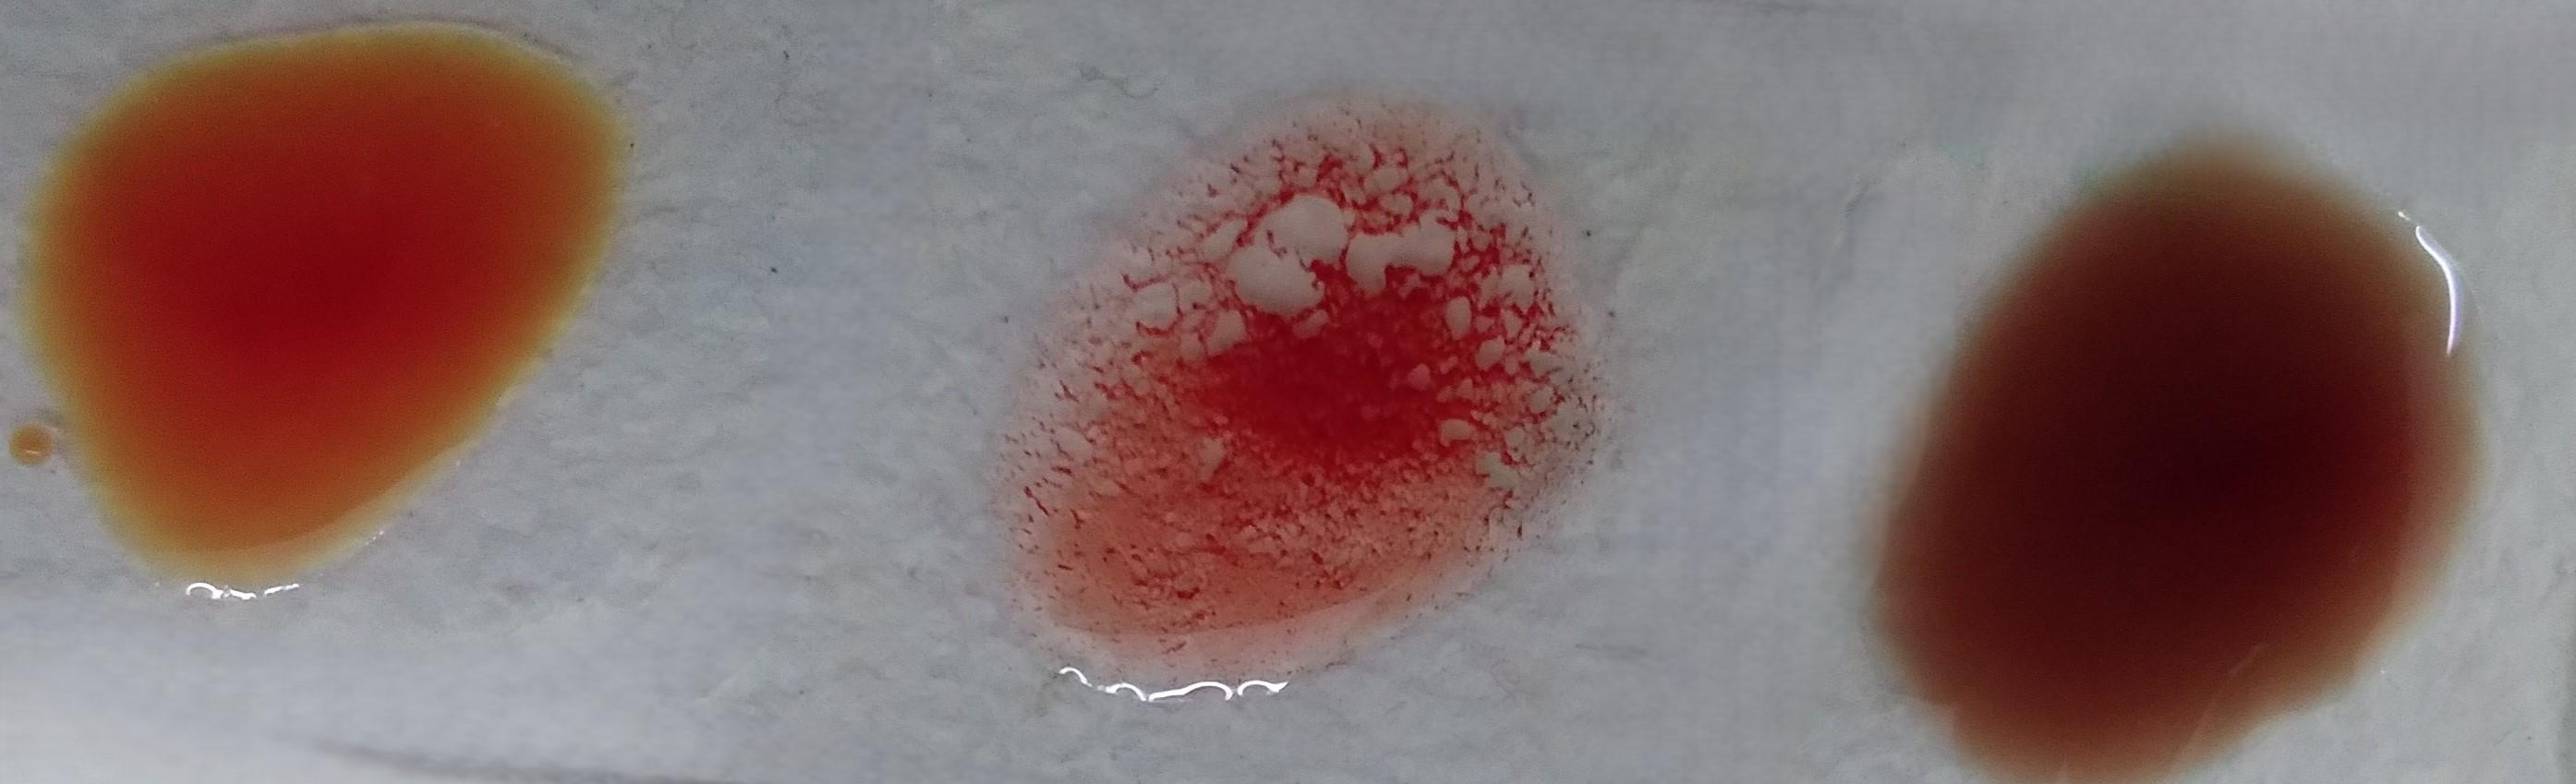D: (1017, 151, 1605, 690)
